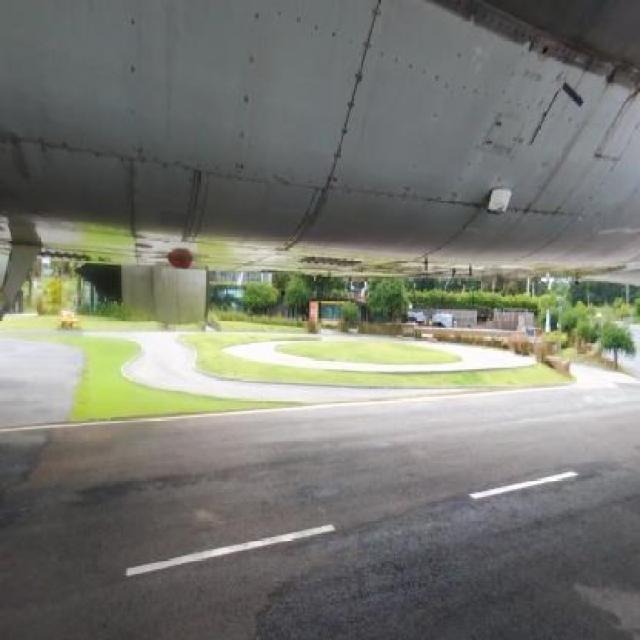Missing-Rivet: (493, 29, 589, 136), (366, 40, 488, 112), (12, 131, 196, 177), (332, 2, 376, 172), (246, 5, 360, 68), (342, 174, 480, 223), (225, 83, 264, 203), (484, 199, 573, 227), (126, 12, 143, 134)
